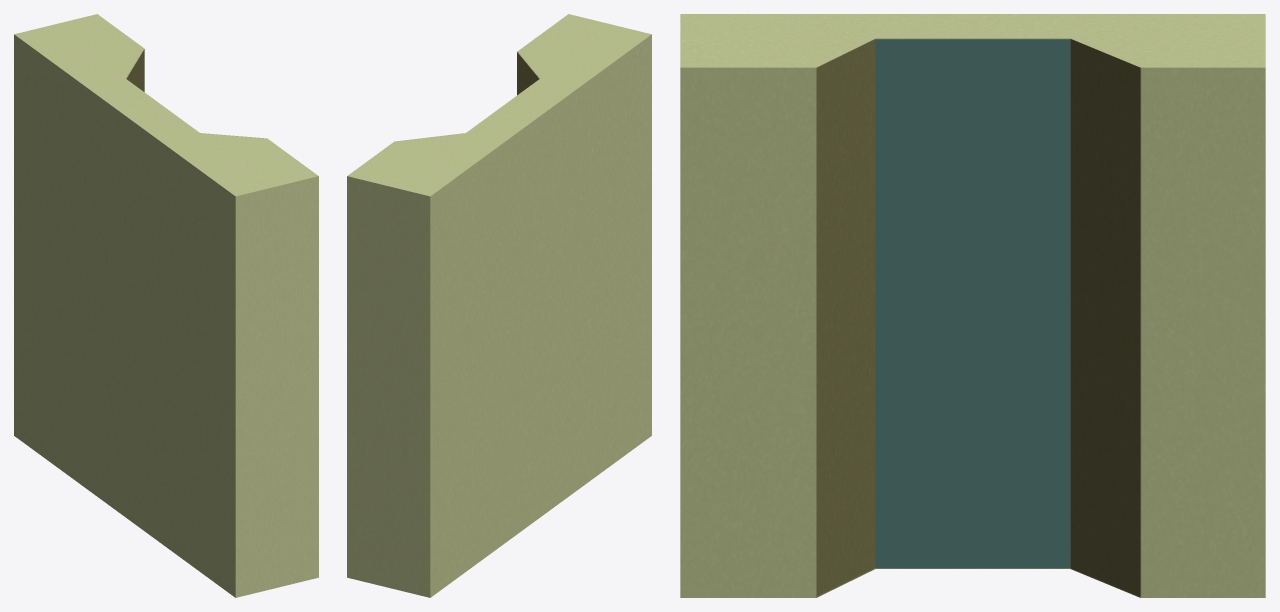
Rendered from modularWall-Set1.fbx.
3 views of the same model, side by side, from view 1: azimuth 30°, elevation 25°; view 2: azimuth 150°, elevation 25°; view 3: azimuth 270°, elevation 25° (orthographic). The views are drawn at different scales.
Parts seen in each view (by area): view 1: Cube.002; view 2: Cube.002; view 3: Cube.002.
Boxes of the visible parts, x1,y1,x2,y2 form: Cube.002: (14, 14, 318, 597); Cube.002: (347, 14, 651, 597); Cube.002: (680, 14, 1265, 597).
Size of the model in its own units: 108 by 500 by 500.
